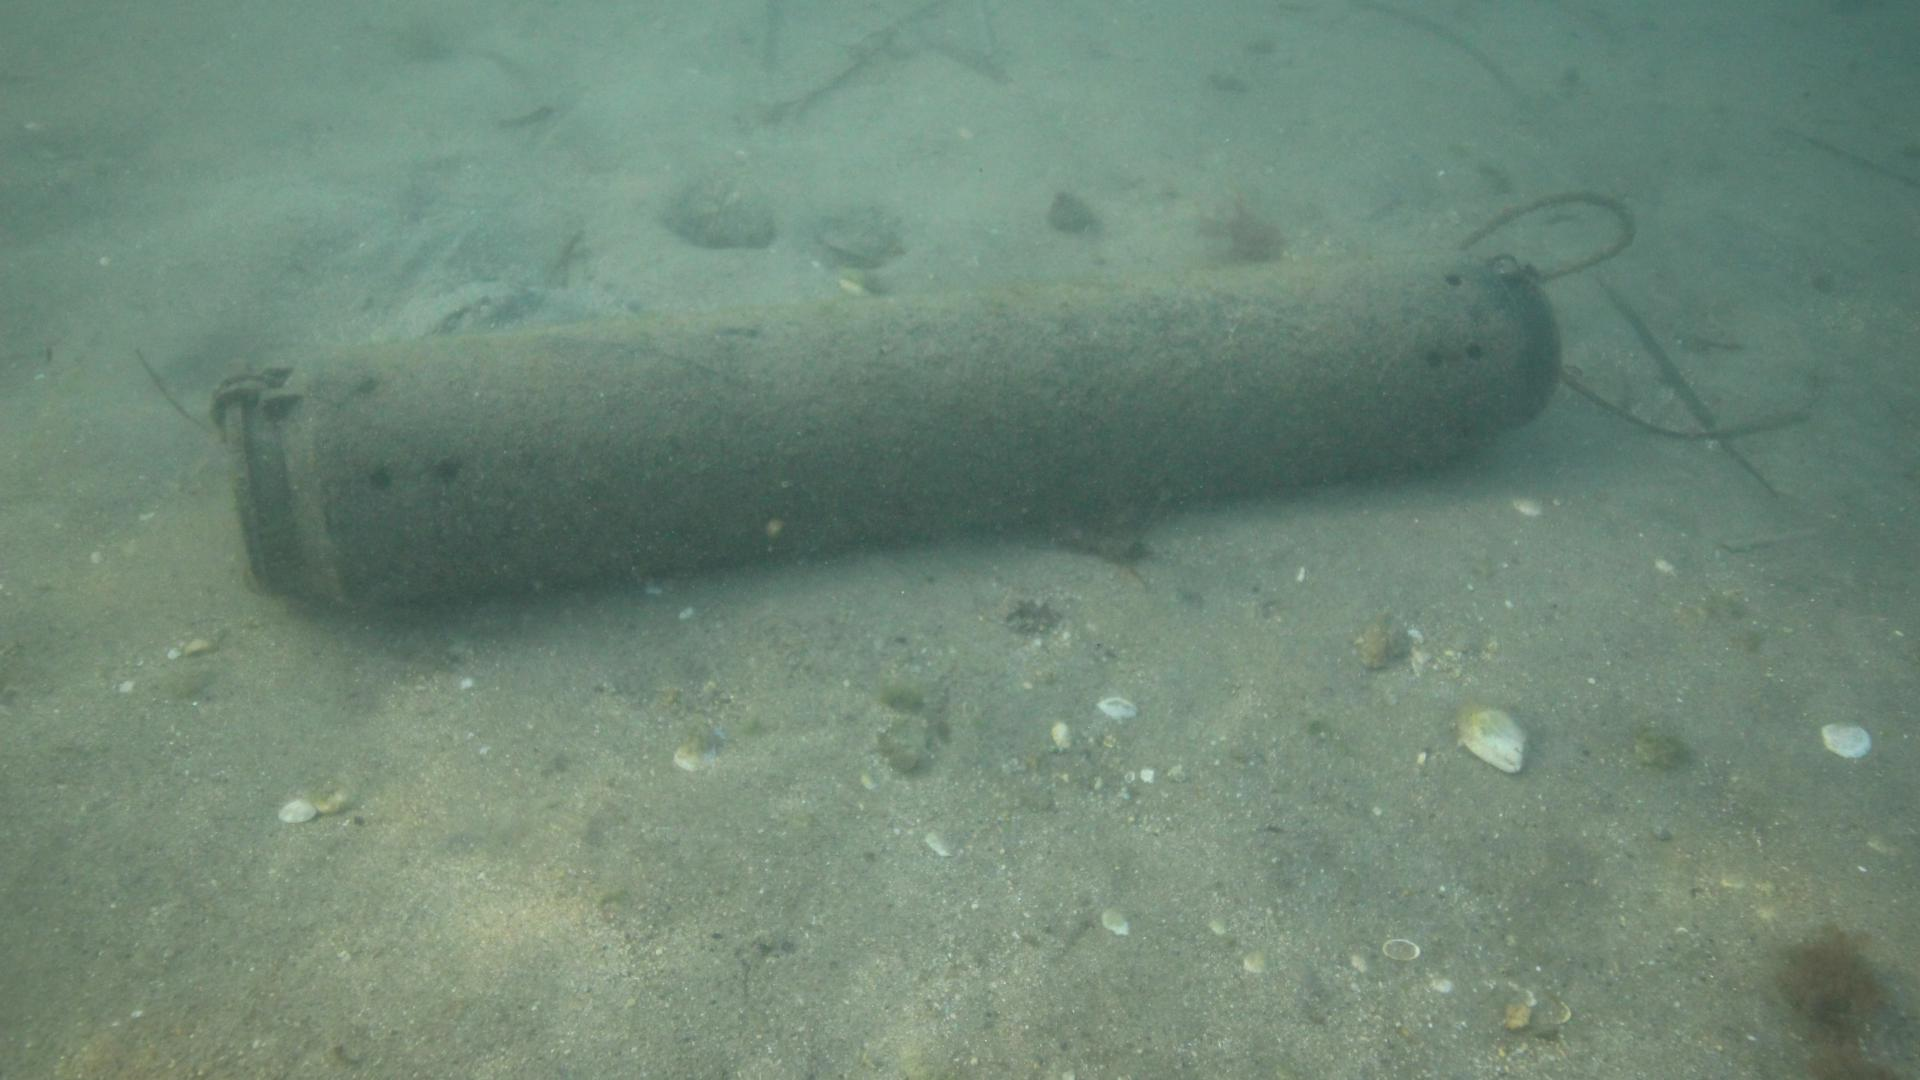eel fish trap: (229, 256, 1559, 615)
rope: (1452, 189, 1634, 284)
